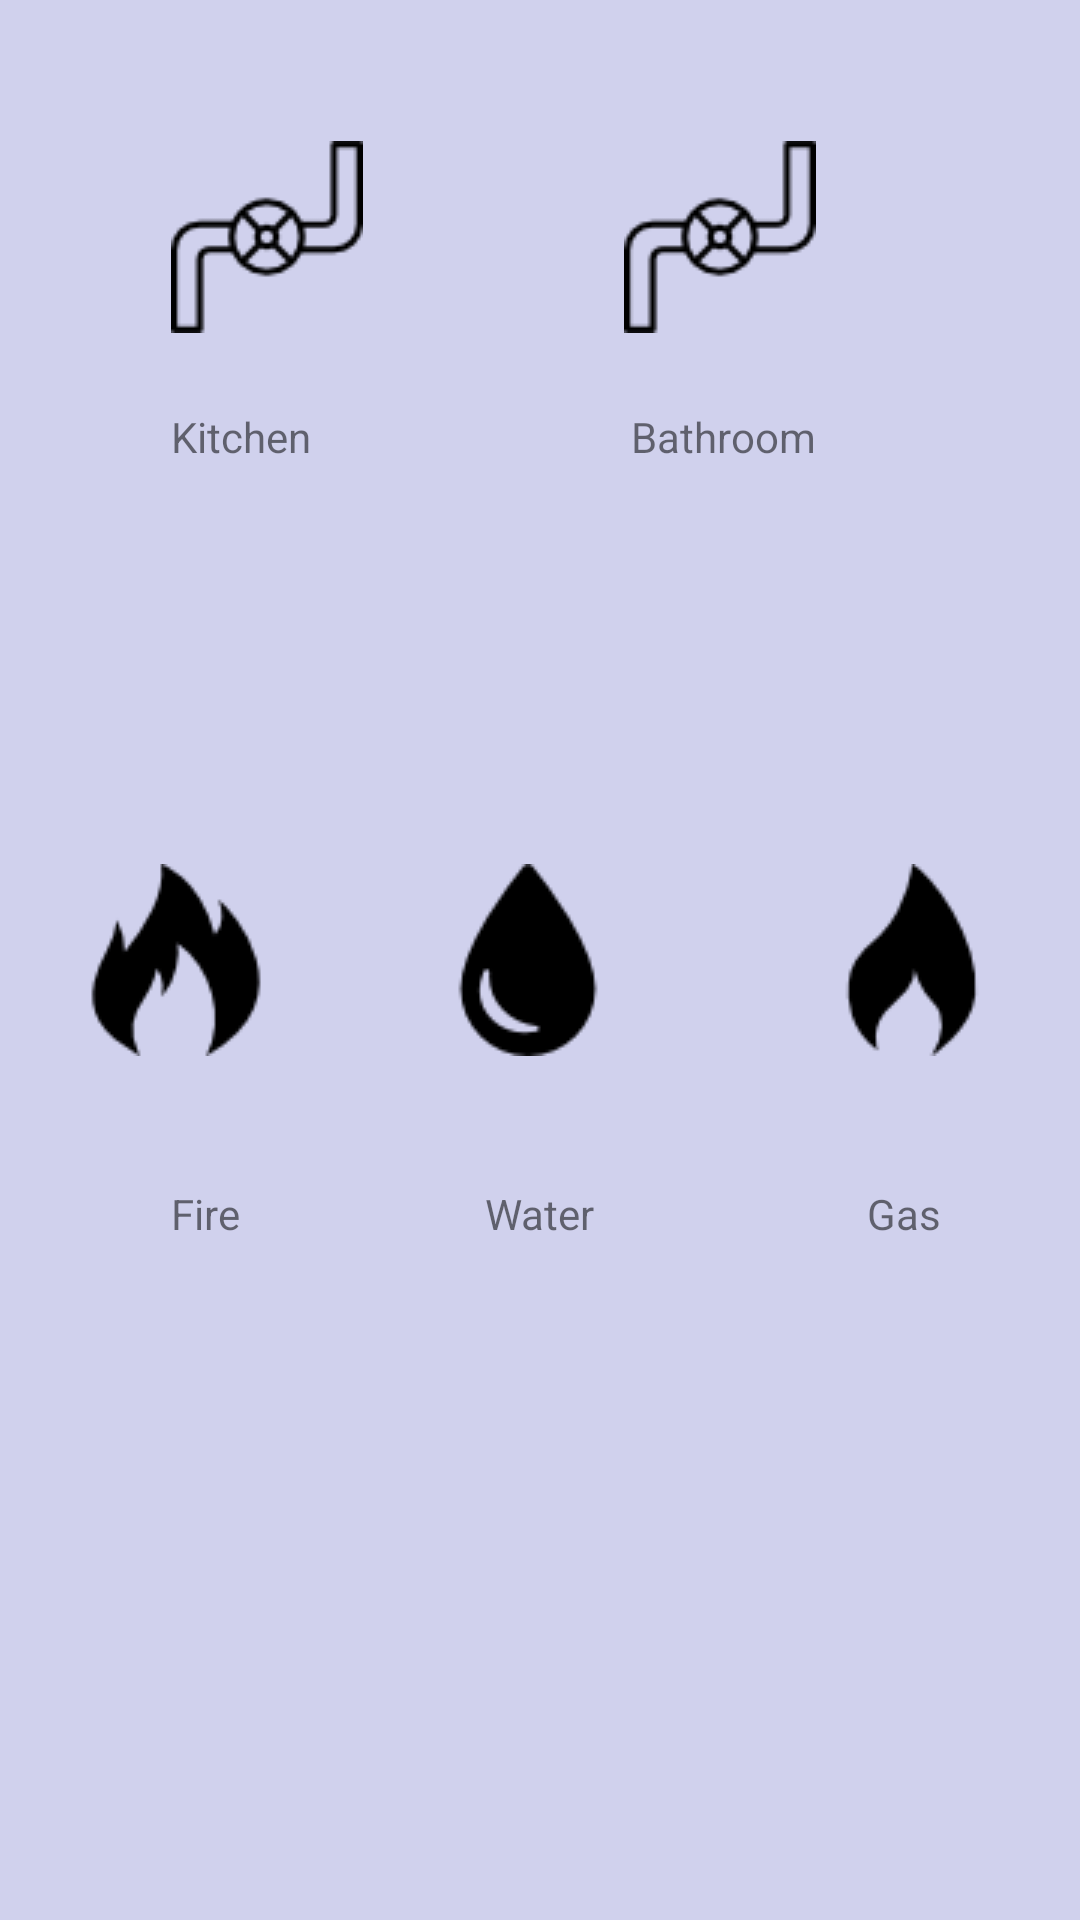

Screen size 1080×1920. Icon name, then its box in pixels as detection(x1, y1, x2, y2):
gasoff: detection(846, 864, 976, 1056)
volveoff: detection(171, 141, 363, 333), detection(624, 141, 816, 333)
